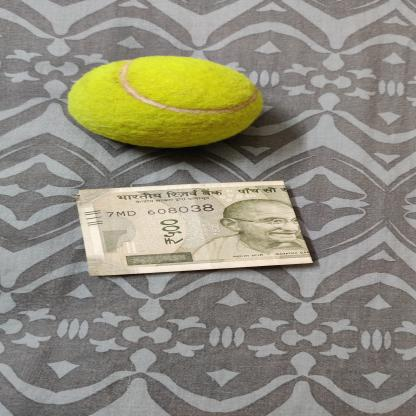New500Front: (73, 180, 315, 277)
